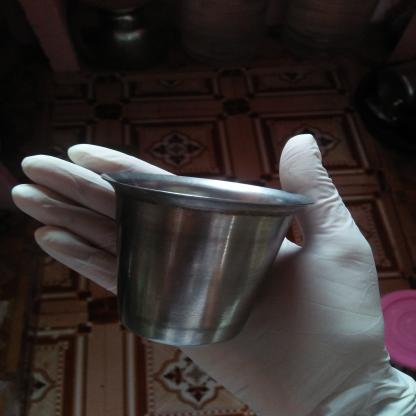gloved_hand: (6, 132, 415, 416)
